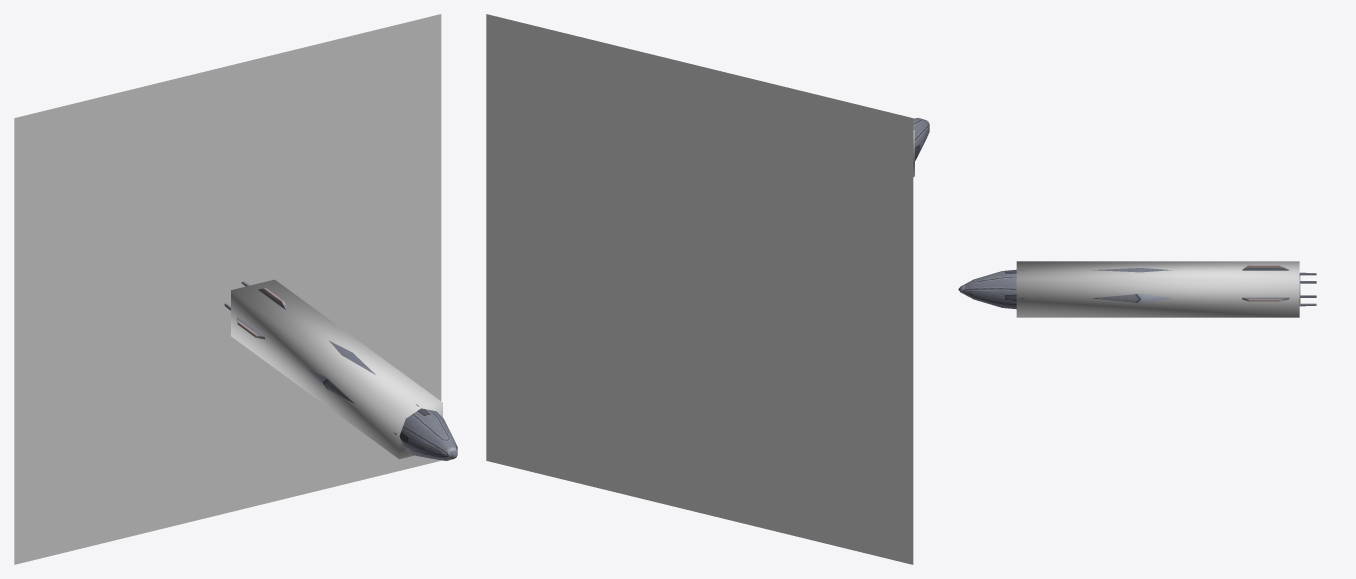
The model's file is cyr_missile.dae.
3 views of the same model, side by side, from view 1: azimuth 30°, elevation 25°; view 2: azimuth 150°, elevation 25°; view 3: azimuth 270°, elevation 25° (orthographic). The views are drawn at different scales.
Parts seen in each view (by area): view 1: ETSH[EngineShape1], COL[Root], MULT[Hull]_LOD[0]; view 2: ETSH[EngineShape1]; view 3: COL[Root], MULT[Hull]_LOD[0].
Boxes of the visible parts, box(x1,y1,x2,y2) form: ETSH[EngineShape1]: box(14, 14, 441, 564); COL[Root]: box(231, 279, 442, 459); MULT[Hull]_LOD[0]: box(224, 281, 457, 460); ETSH[EngineShape1]: box(486, 14, 913, 564); COL[Root]: box(1016, 261, 1299, 317); MULT[Hull]_LOD[0]: box(958, 265, 1316, 309).
Size of the model in its own units: 1 by 0.9252 by 1.
1 material, 1 textured.
